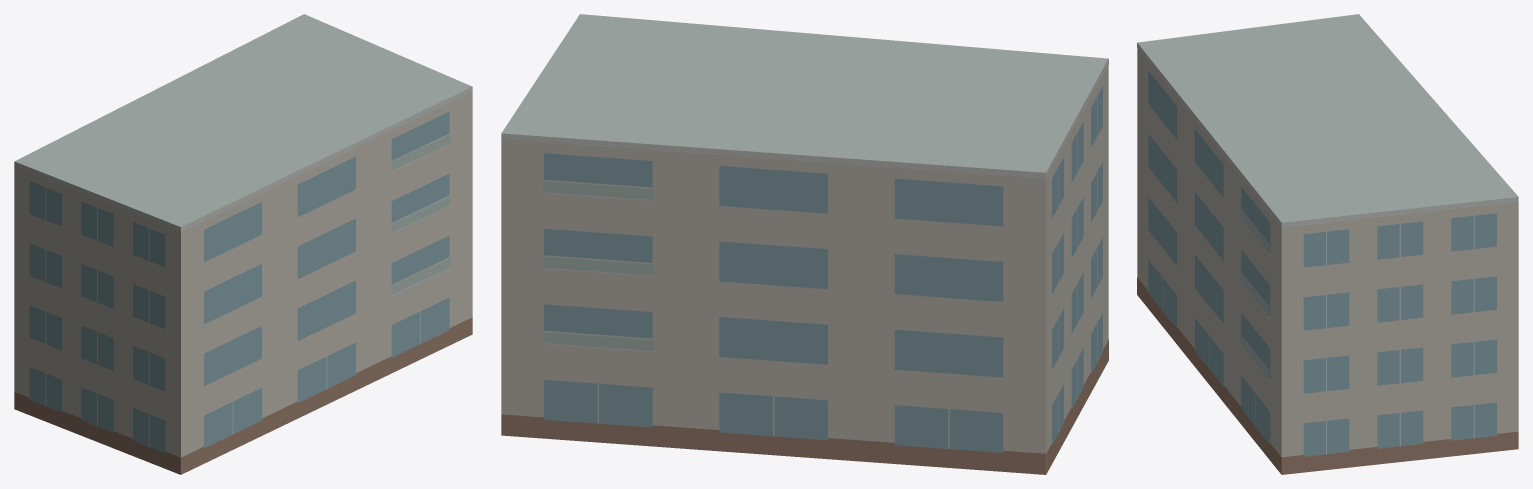
File: survey-upis-32644735.glb
The picture shows the model from 3 angles, left to right: view 1: azimuth 30°, elevation 25°; view 2: azimuth 150°, elevation 25°; view 3: azimuth 270°, elevation 25°; orthographic projection. The views are drawn at different scales.
Visible parts, largest first — view 1: survey-upis-32644735.tmp; view 2: survey-upis-32644735.tmp; view 3: survey-upis-32644735.tmp.
Boxes of the visible parts, <box> form: survey-upis-32644735.tmp: <box>14,14,472,474</box>; survey-upis-32644735.tmp: <box>501,14,1108,474</box>; survey-upis-32644735.tmp: <box>1137,14,1518,474</box>.
Size of the model in its own units: 21.66 by 12.2 by 16.74.
